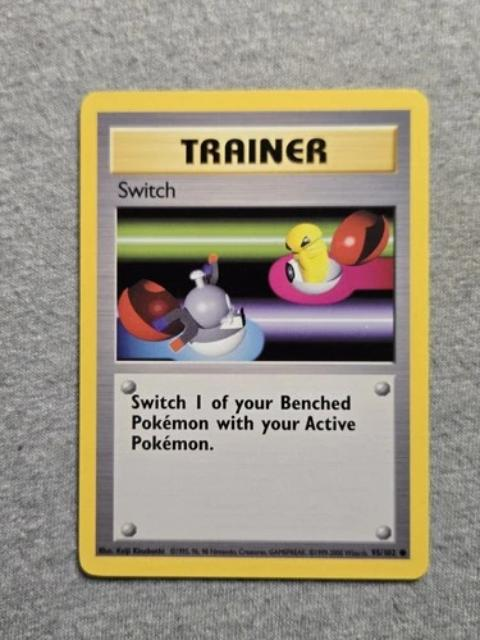Card: (70, 78, 435, 589)
Name: (110, 175, 179, 202)
